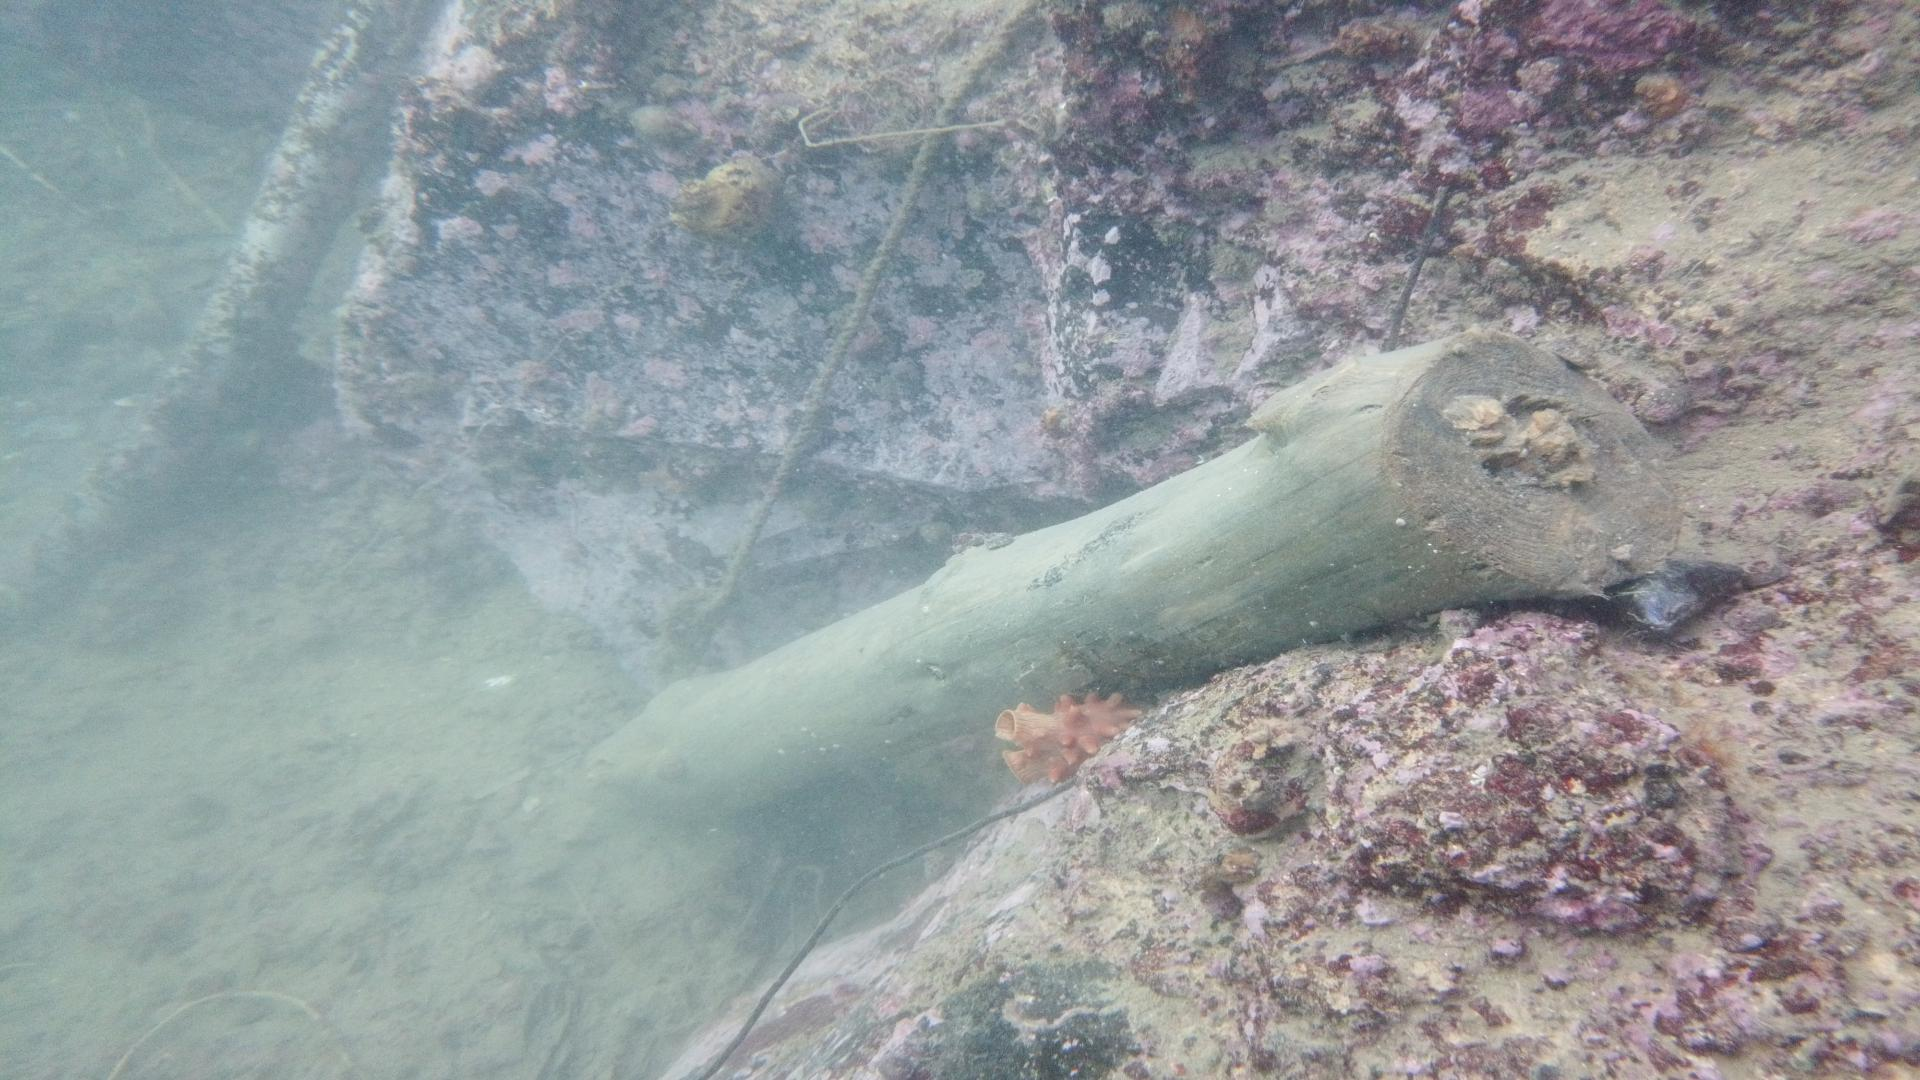rope: (700, 0, 1038, 613)
wood: (582, 324, 1677, 823)
